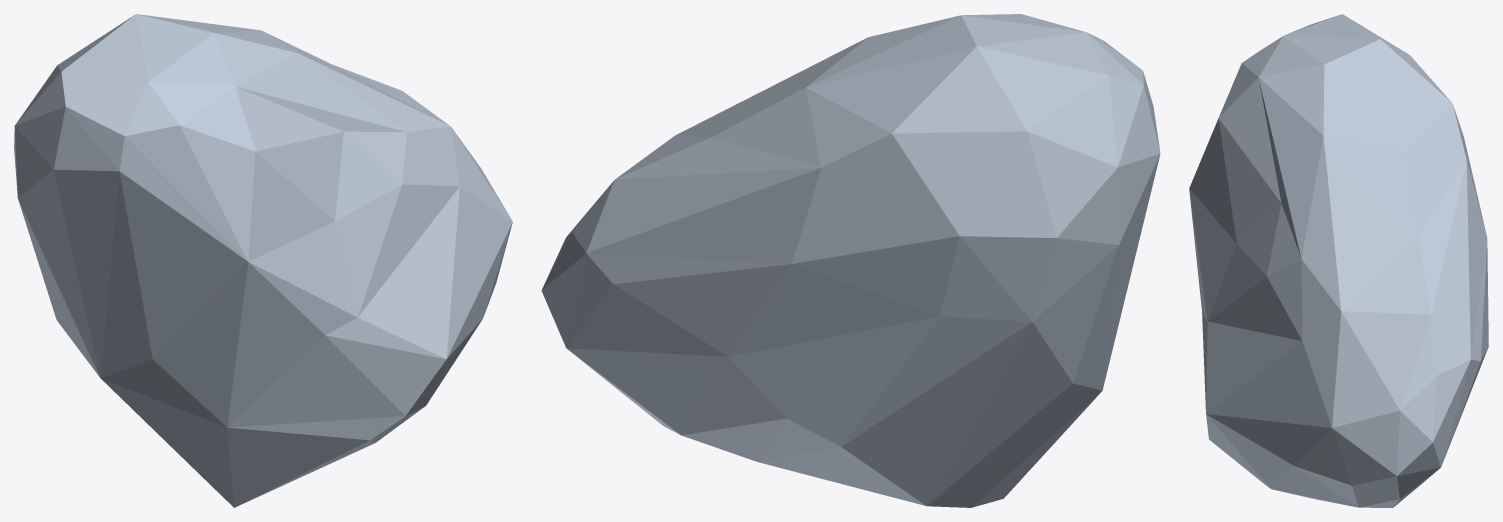
Rendered from Rock.fbx.
3 renders of one model, left to right at view 1: azimuth 30°, elevation 25°; view 2: azimuth 150°, elevation 25°; view 3: azimuth 270°, elevation 25°, orthographic. The views are drawn at different scales.
Parts seen in each view (by area): view 1: Cube; view 2: Cube; view 3: Cube.
Part boxes in pixels (x1,y1,x2,y2): Cube: [14, 14, 512, 507]; Cube: [541, 14, 1160, 507]; Cube: [1189, 14, 1488, 507].
Bounding box in the file's own units: 389 × 347 × 234.
